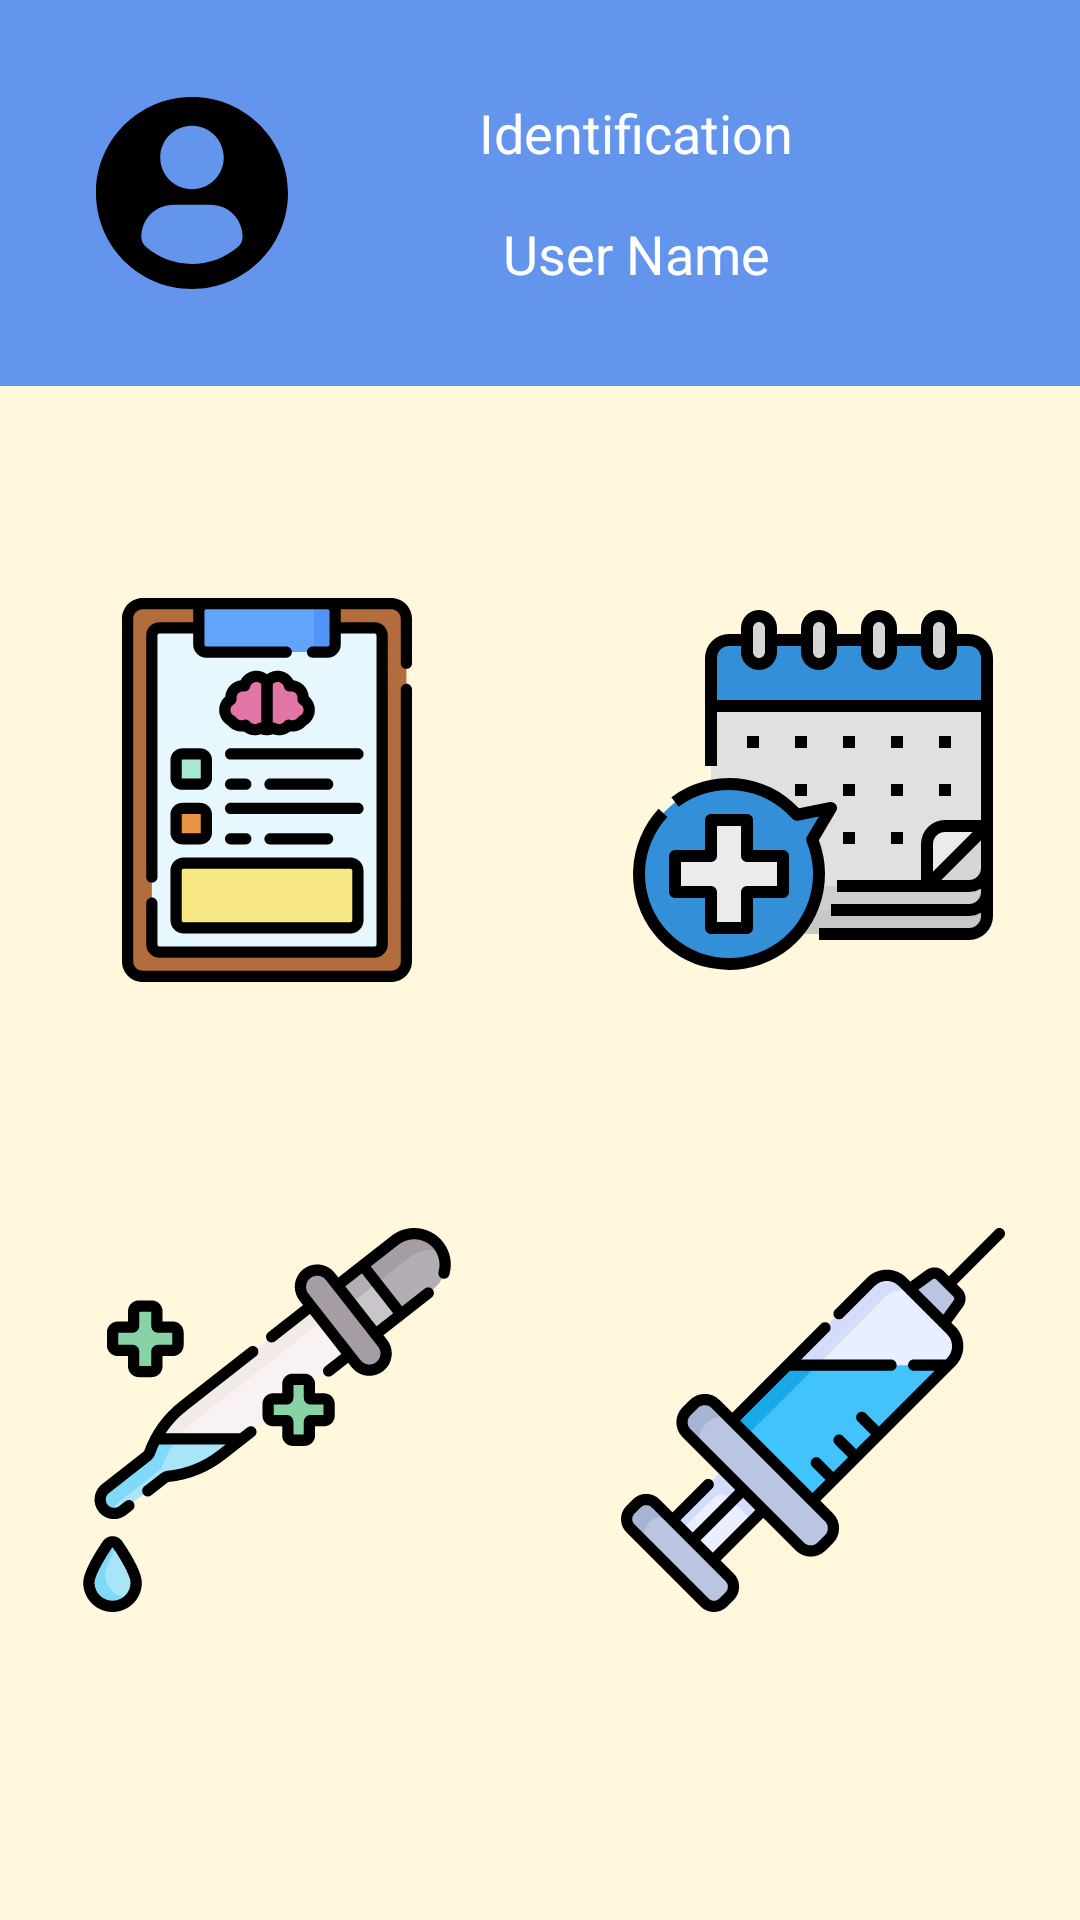

Screen size 1080px×1920px. Icon name, then its box in pixels as box=[x1, y1, x2, y2]:
appointment: box=[633, 610, 993, 970]
user: box=[96, 97, 288, 289]
